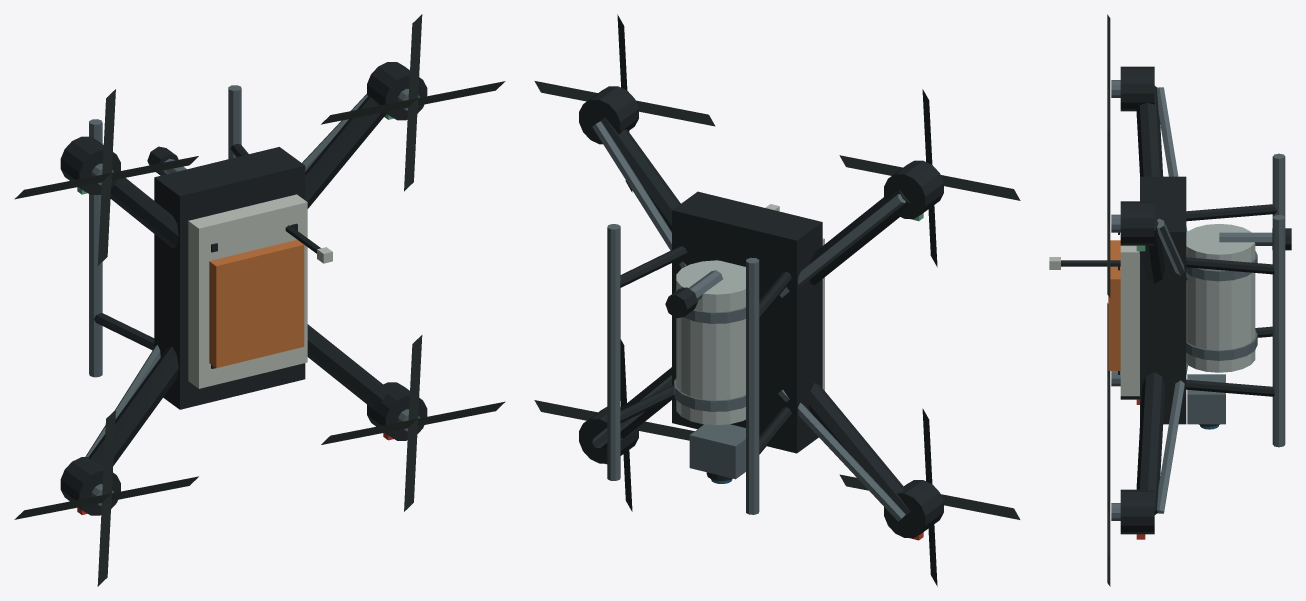
Rendered from drone.glb.
3 renders of one model, left to right at view 1: azimuth 30°, elevation 25°; view 2: azimuth 150°, elevation 25°; view 3: azimuth 270°, elevation 25°, orthographic. The views are drawn at different scales.
Parts seen in each view (by area): view 1: EMBERNET suppression quadrotor; view 2: EMBERNET suppression quadrotor; view 3: EMBERNET suppression quadrotor.
Part boxes in pixels (x1=…): EMBERNET suppression quadrotor: x1=14, y1=14, x2=505, y2=586; EMBERNET suppression quadrotor: x1=534, y1=14, x2=1020, y2=586; EMBERNET suppression quadrotor: x1=1049, y1=14, x2=1291, y2=586.
Size of the model in its own units: 5.28 by 5.1 by 2.51.
